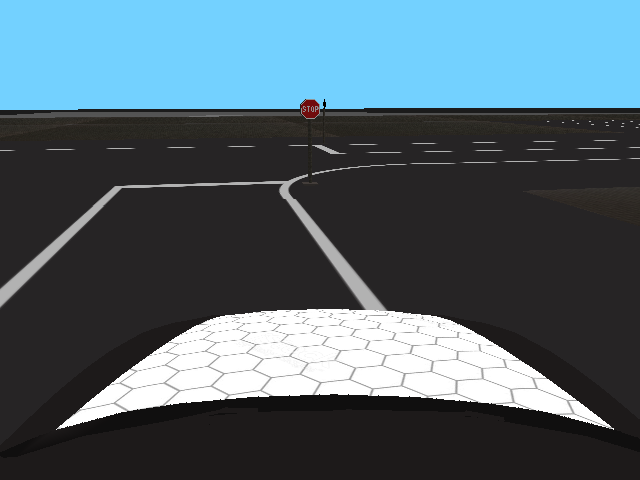stop: (300, 99, 321, 120)
